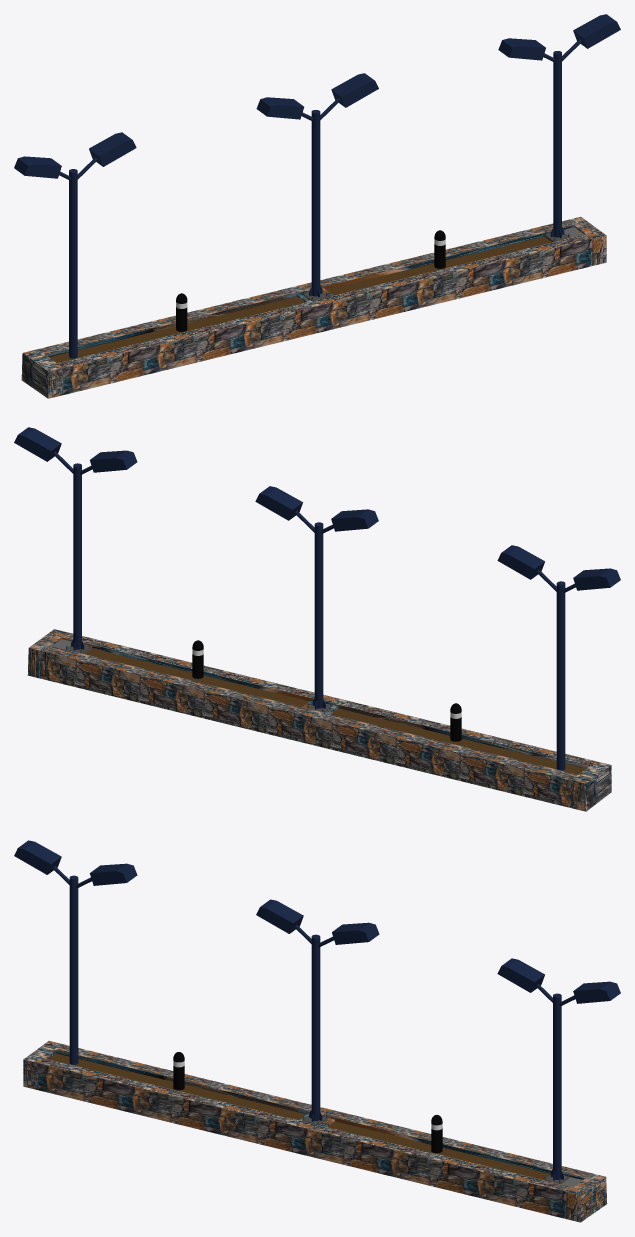
Rendered from Stone Wall and no Grass.fbx.
3 renders of one model, top to bottom at view 1: azimuth 30°, elevation 25°; view 2: azimuth 150°, elevation 25°; view 3: azimuth 330°, elevation 25°, orthographic.
Parts seen in each view (by area): view 1: Cube, Cube.045, Cylinder.005, Cylinder.006, Cylinder, Cube.002, Cube.039, Cube.041, Cube.036, Cube.044, Cube.005; view 2: Cube, Cube.045, Cylinder.006, Cylinder.005, Cylinder, Cube.002, Cube.039, Cube.041, Cube.036, Cube.005, Cube.044; view 3: Cube, Cube.045, Cylinder.006, Cylinder.005, Cylinder, Cube.036, Cube.044, Cube.005, Cube.002, Cube.041, Cube.039.
Part boxes in pixels (<box>): Cube: <box>21,216,606,398</box>; Cube.045: <box>49,236,551,362</box>; Cylinder.005: <box>311,110,320,296</box>; Cylinder.006: <box>69,169,77,358</box>; Cylinder: <box>553,51,561,237</box>; Cube.002: <box>573,14,620,48</box>; Cube.039: <box>331,73,378,107</box>; Cube.041: <box>89,132,136,166</box>; Cube.036: <box>256,97,304,119</box>; Cube.044: <box>14,156,61,178</box>; Cube.005: <box>498,38,545,60</box>; Cube: <box>27,629,611,811</box>; Cube.045: <box>84,648,585,774</box>; Cylinder.006: <box>556,581,565,770</box>; Cylinder.005: <box>314,522,323,708</box>; Cylinder: <box>73,463,81,649</box>; Cube.002: <box>14,427,61,461</box>; Cube.039: <box>255,486,302,520</box>; Cube.041: <box>497,545,544,579</box>; Cube.036: <box>331,509,378,531</box>; Cube.005: <box>90,450,137,472</box>; Cube.044: <box>573,568,620,590</box>; Cube: <box>23,1041,607,1222</box>; Cube.045: <box>49,1053,550,1179</box>; Cylinder.006: <box>69,875,78,1064</box>; Cylinder.005: <box>311,934,320,1120</box>; Cylinder: <box>553,993,561,1179</box>; Cube.036: <box>256,899,303,933</box>; Cube.044: <box>14,840,61,874</box>; Cube.005: <box>497,958,544,992</box>; Cube.002: <box>573,981,620,1003</box>; Cube.041: <box>89,863,137,885</box>; Cube.039: <box>332,922,379,944</box>.
Bounding box in the file's own units: 2100 × 784 × 159.
